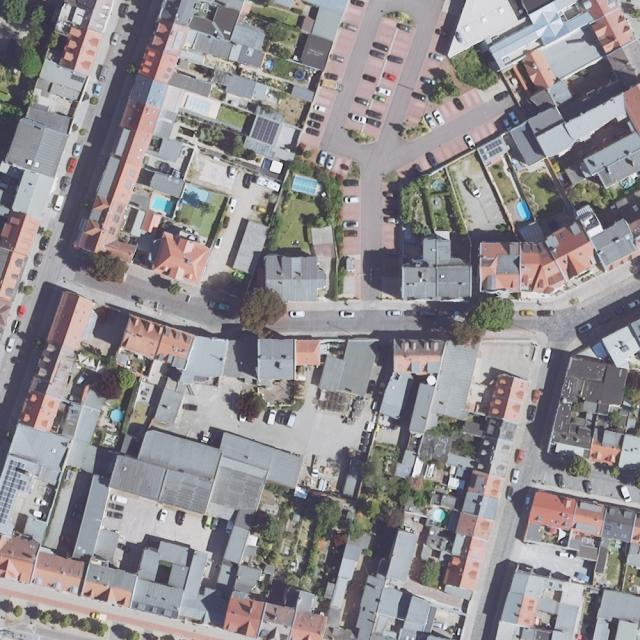PV: (0, 458, 28, 525), (249, 116, 279, 146), (478, 138, 503, 161)
ST: (71, 74, 85, 83)
